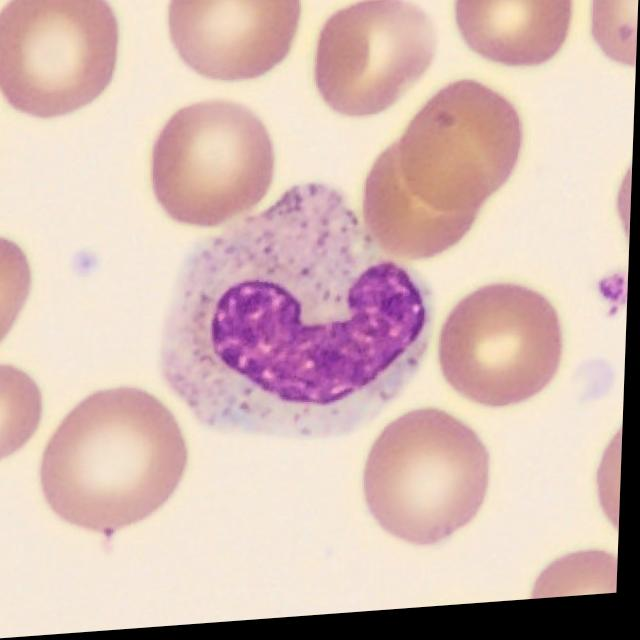Neutrofilo segmentado: (163, 188, 431, 447)
